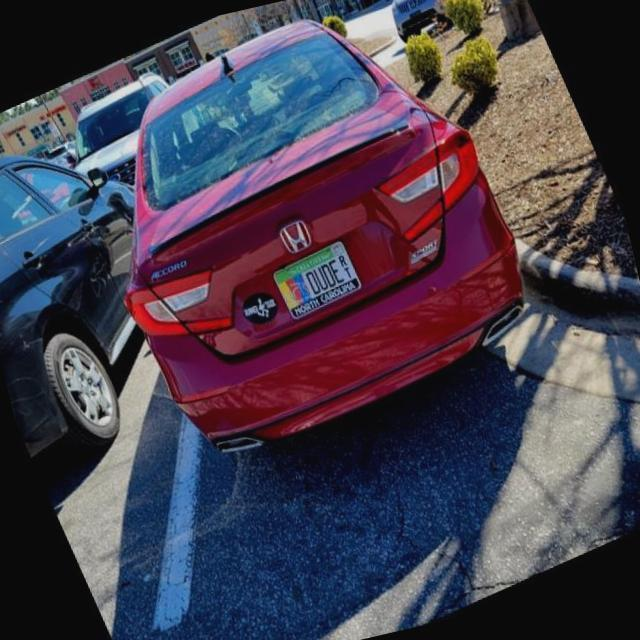license-plate: (269, 238, 367, 322)
